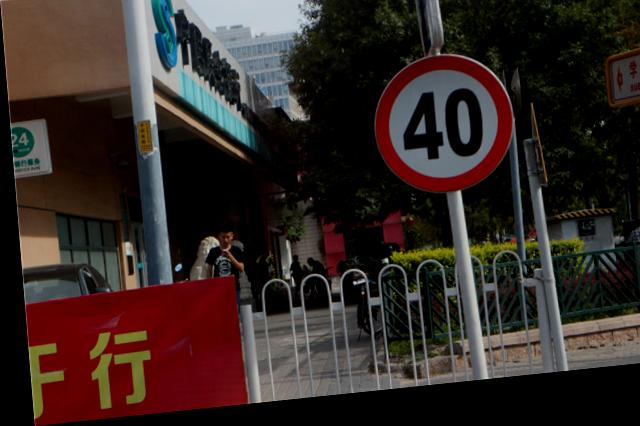limit40: (366, 56, 516, 208)
